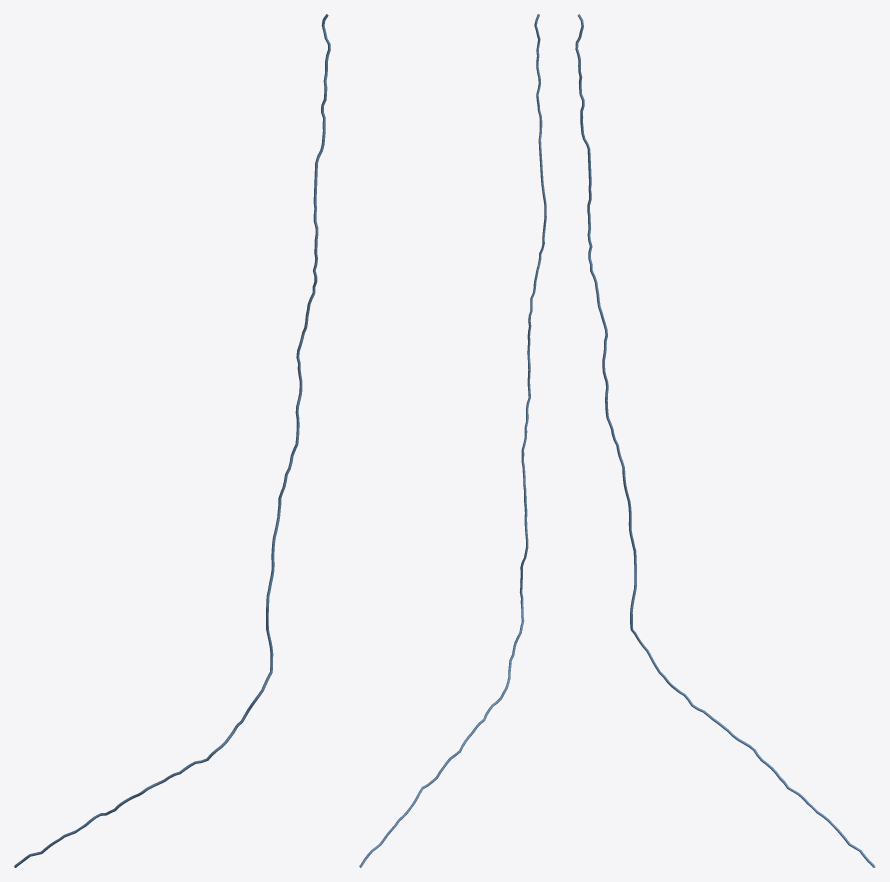
Rendered from sweep11.fbx.
3 views of the same model, side by side, from view 1: azimuth 90°, elevation 25°; view 2: azimuth 150°, elevation 25°; view 3: azimuth 270°, elevation 25° (orthographic). The views are drawn at different scales.
Visible parts, largest first — view 1: sweep11; view 2: sweep11; view 3: sweep11.
Boxes of the visible parts, x1,y1,x2,y2 form: sweep11: (14, 14, 330, 867); sweep11: (359, 14, 546, 867); sweep11: (575, 14, 875, 867).
Bounding box in the file's own units: 0.5598 × 6.68 × 2.19.
